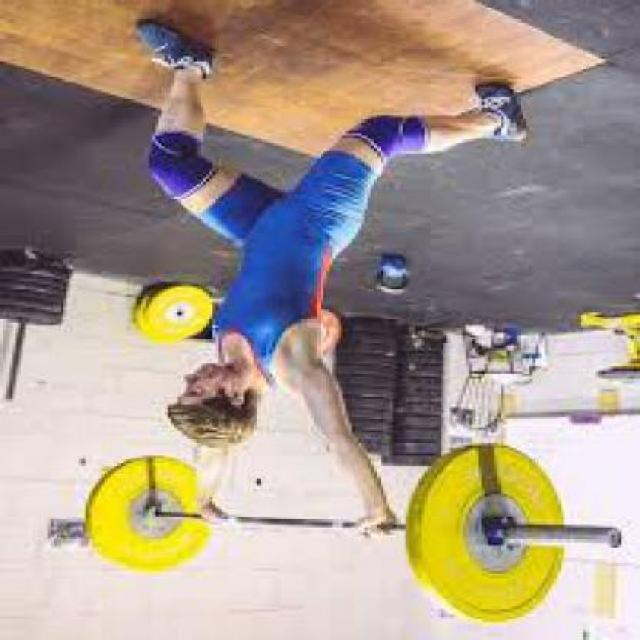Barbell: (602, 524, 632, 552)
